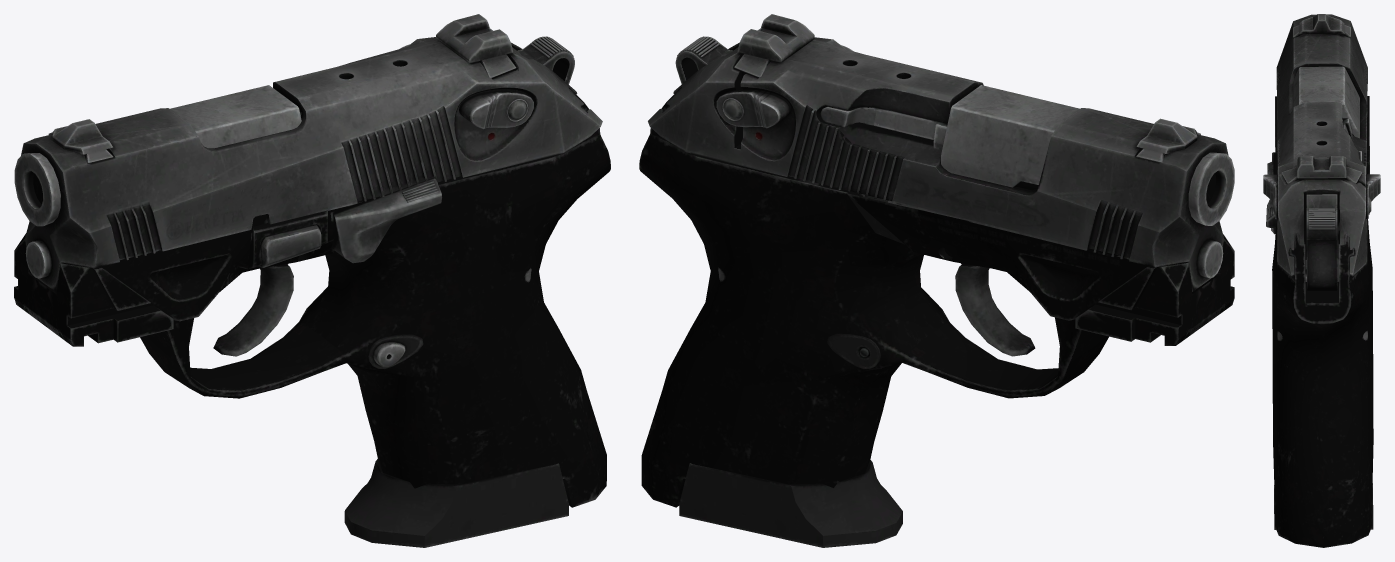
Rendered from weapon_px4c.glb.
3 renders of one model, left to right at view 1: azimuth 30°, elevation 25°; view 2: azimuth 150°, elevation 25°; view 3: azimuth 270°, elevation 25°, orthographic. The views are drawn at different scales.
Visible parts, largest first — view 1: main_frame_px4c, slide_px4c, magazine_px4c, chamber_px4c, trigger_px4c, rear_sight_px4c, front_sight_px4c, hammer_px4c; view 2: main_frame_px4c, slide_px4c, chamber_px4c, magazine_px4c, trigger_px4c, rear_sight_px4c, front_sight_px4c, hammer_px4c; view 3: main_frame_px4c, slide_px4c, hammer_px4c, chamber_px4c, rear_sight_px4c, front_sight_px4c, magazine_px4c.
Part boxes in pixels (<box>): main_frame_px4c: <box>14,89,610,507</box>; slide_px4c: <box>21,37,602,292</box>; magazine_px4c: <box>344,196,568,547</box>; chamber_px4c: <box>14,85,301,226</box>; trigger_px4c: <box>213,264,293,356</box>; rear_sight_px4c: <box>436,14,516,78</box>; front_sight_px4c: <box>48,119,113,163</box>; hammer_px4c: <box>517,36,574,84</box>; main_frame_px4c: <box>639,88,1234,507</box>; slide_px4c: <box>648,37,1228,291</box>; chamber_px4c: <box>820,85,1234,225</box>; magazine_px4c: <box>679,194,922,547</box>; trigger_px4c: <box>955,263,1035,356</box>; rear_sight_px4c: <box>734,14,814,77</box>; front_sight_px4c: <box>1136,118,1200,163</box>; hammer_px4c: <box>675,36,732,83</box>; main_frame_px4c: <box>1266,96,1373,547</box>; slide_px4c: <box>1263,14,1380,276</box>; hammer_px4c: <box>1306,194,1337,290</box>; chamber_px4c: <box>1293,66,1361,161</box>; rear_sight_px4c: <box>1281,156,1361,183</box>; front_sight_px4c: <box>1293,14,1350,37</box>; magazine_px4c: <box>1274,259,1373,529</box>.
Bounding box in the file's own units: 23.15 × 18.7 × 5.67.
1 material, 1 textured.
